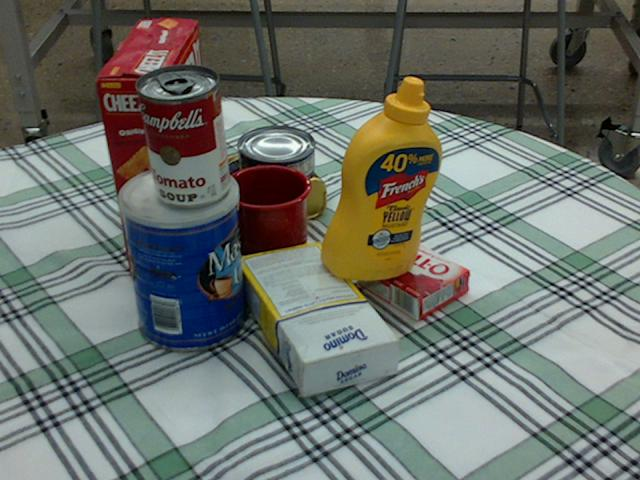cracker_box: (93, 20, 215, 275)
gelatin_box: (354, 237, 468, 321)
master_chef_can: (116, 164, 247, 352)
mug: (197, 163, 310, 270)
mustard_bottle: (320, 76, 441, 280)
potted_meat_can: (216, 143, 322, 226)
sugar_box: (235, 242, 402, 393)
tomato_soup_can: (135, 63, 228, 205)
tuna_fish_can: (236, 126, 314, 188)
